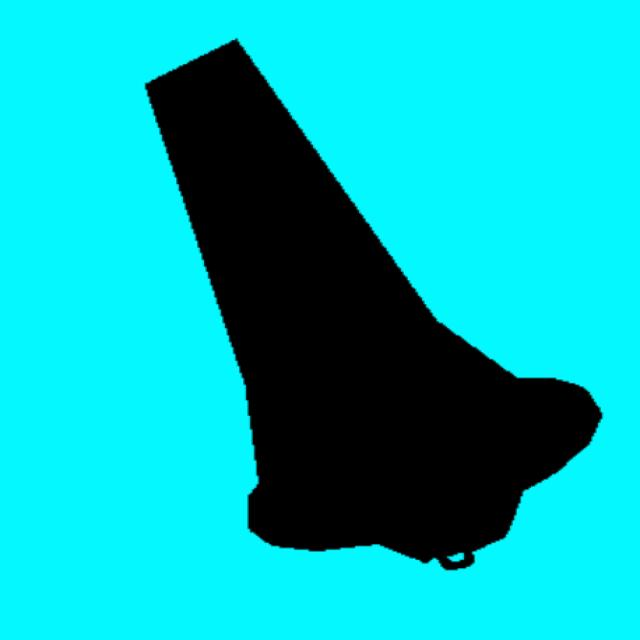BlackBuoy: (147, 41, 601, 569)
